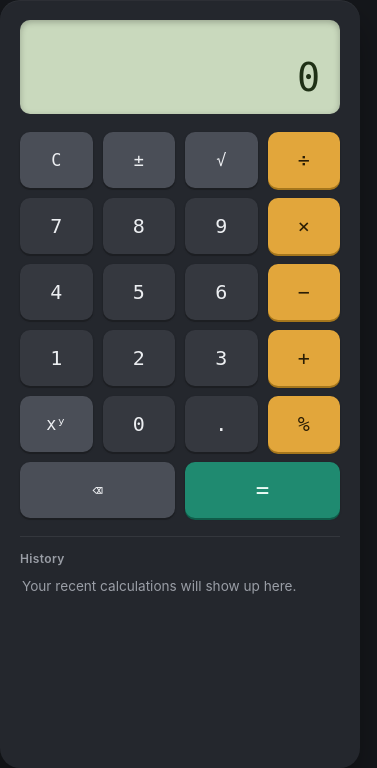
Calculator (integration) › shows a friendly error message when dividing by zero
Step 1. Click the button "5" → (139, 292), box 102,264 -> 175,320
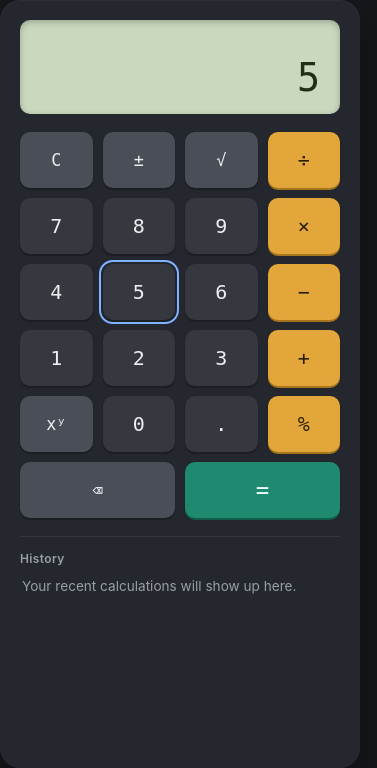
Step 2. Click the button named "Divide" → (304, 160), box 268,132 -> 340,188
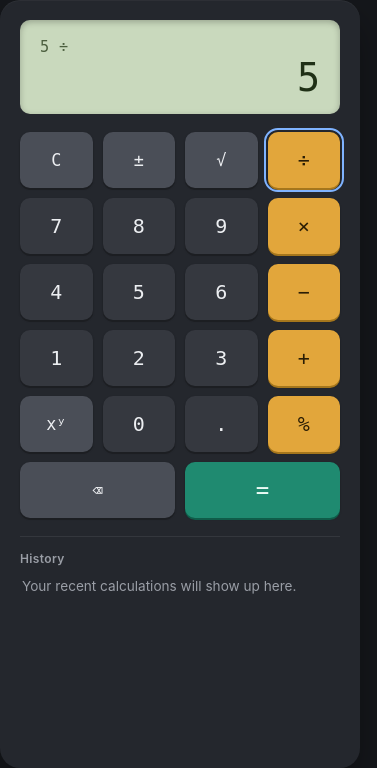
Step 3. Click the button "0" → (139, 424), box 102,396 -> 175,452
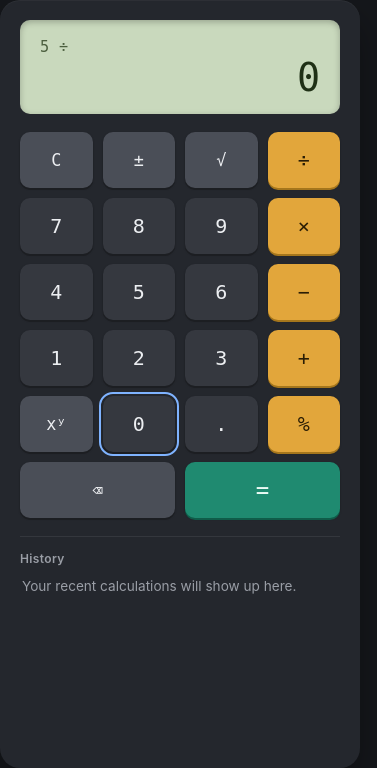
Step 4. Click the button named "Equals" → (262, 490), box 185,462 -> 340,518
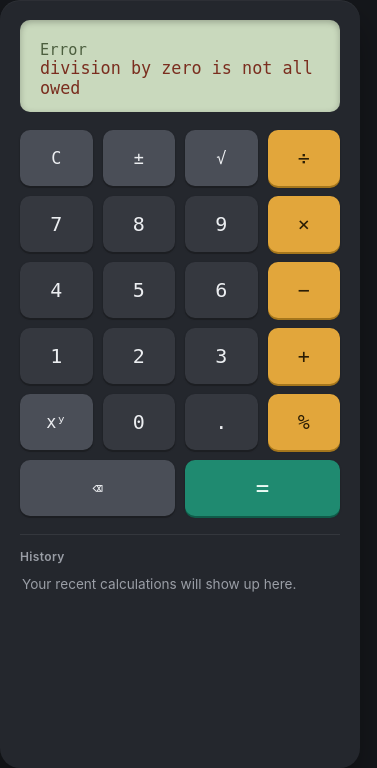
Expected: the message shows "division by zero is not allowed", 40,58 -> 313,98
